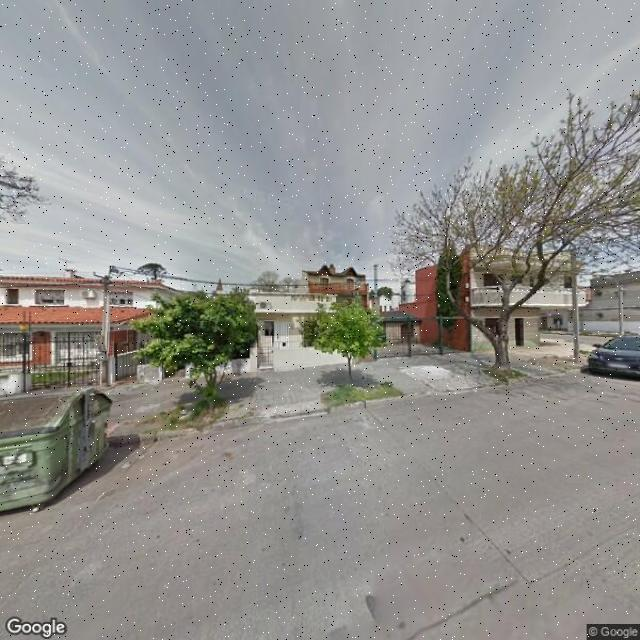garbage container: (1, 380, 129, 522)
